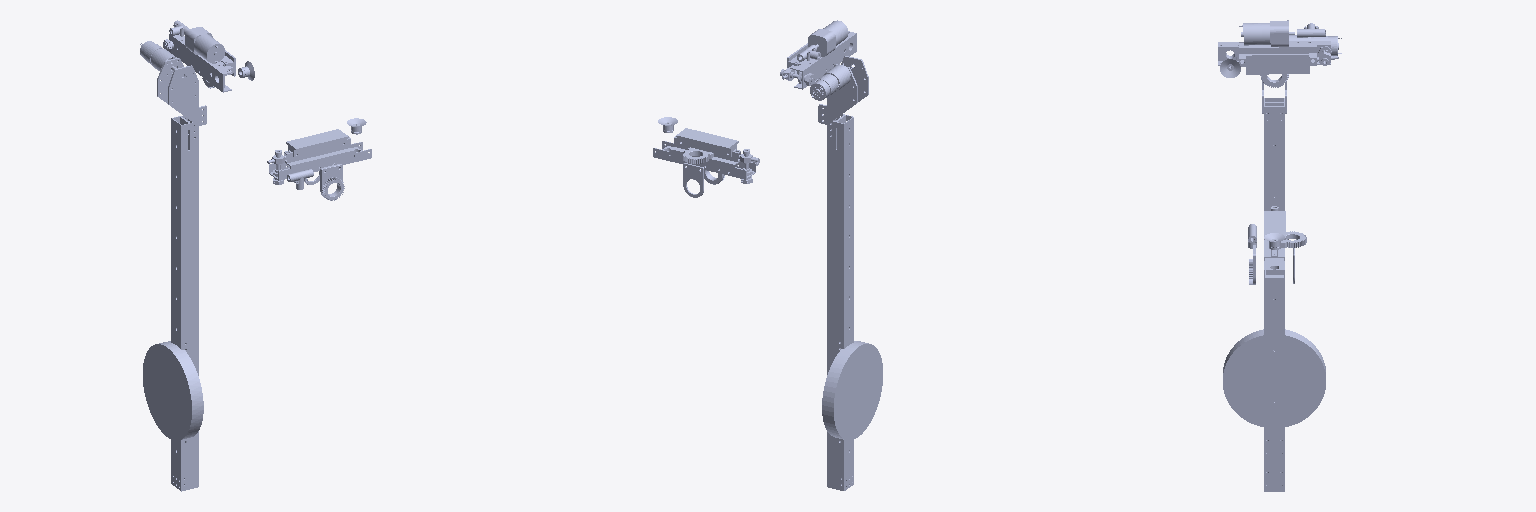
URDF robot description (r2_v5_02_09-2):
<?xml version="1.0" ?>
<!-- =================================================================================== -->
<!-- |    This document was autogenerated by xacro from /home/a/ws_nhk/src/r2_v5_02_09-2_description-20260222T093750Z-1-001/r2_v5_02_09-2_description/urdf/r2_v5_02_09-2.xacro | -->
<!-- |    EDITING THIS FILE BY HAND IS NOT RECOMMENDED                                 | -->
<!-- =================================================================================== -->
<robot name="r2_v5_02_09-2">
  <material name="silver_default">
    <color rgba="0.700 0.700 0.700 1.000"/>
  </material>
  <material name="opaque202209238">
    <color rgba="0.792156862745098 0.8196078431372549 0.9333333333333333 1.0"/>
  </material>
  <transmission name="Revolute 1_1_tran">
    <type>transmission_interface/SimpleTransmission</type>
    <joint name="Revolute 1_1">
      <hardwareInterface>hardware_interface/EffortJointInterface</hardwareInterface>
    </joint>
    <actuator name="Revolute 1_1_actr">
      <hardwareInterface>hardware_interface/EffortJointInterface</hardwareInterface>
      <mechanicalReduction>1</mechanicalReduction>
    </actuator>
  </transmission>
  <transmission name="Slider 1_2_tran">
    <type>transmission_interface/SimpleTransmission</type>
    <joint name="Slider 1_2">
      <hardwareInterface>hardware_interface/EffortJointInterface</hardwareInterface>
    </joint>
    <actuator name="Slider 1_2_actr">
      <hardwareInterface>hardware_interface/EffortJointInterface</hardwareInterface>
      <mechanicalReduction>1</mechanicalReduction>
    </actuator>
  </transmission>
  <transmission name="Slider 1_3_tran">
    <type>transmission_interface/SimpleTransmission</type>
    <joint name="Slider 1_3">
      <hardwareInterface>hardware_interface/EffortJointInterface</hardwareInterface>
    </joint>
    <actuator name="Slider 1_3_actr">
      <hardwareInterface>hardware_interface/EffortJointInterface</hardwareInterface>
      <mechanicalReduction>1</mechanicalReduction>
    </actuator>
  </transmission>
  <transmission name="Revolute 1_4_tran">
    <type>transmission_interface/SimpleTransmission</type>
    <joint name="Revolute 1_4">
      <hardwareInterface>hardware_interface/EffortJointInterface</hardwareInterface>
    </joint>
    <actuator name="Revolute 1_4_actr">
      <hardwareInterface>hardware_interface/EffortJointInterface</hardwareInterface>
      <mechanicalReduction>1</mechanicalReduction>
    </actuator>
  </transmission>
  <transmission name="Revolute 2_1_tran">
    <type>transmission_interface/SimpleTransmission</type>
    <joint name="Revolute 2_1">
      <hardwareInterface>hardware_interface/EffortJointInterface</hardwareInterface>
    </joint>
    <actuator name="Revolute 2_1_actr">
      <hardwareInterface>hardware_interface/EffortJointInterface</hardwareInterface>
      <mechanicalReduction>1</mechanicalReduction>
    </actuator>
  </transmission>
  <transmission name="Revolute 2_2_tran">
    <type>transmission_interface/SimpleTransmission</type>
    <joint name="Revolute 2_2">
      <hardwareInterface>hardware_interface/EffortJointInterface</hardwareInterface>
    </joint>
    <actuator name="Revolute 2_2_actr">
      <hardwareInterface>hardware_interface/EffortJointInterface</hardwareInterface>
      <mechanicalReduction>1</mechanicalReduction>
    </actuator>
  </transmission>
  <link name="base_link">
    <inertial>
      <origin rpy="0 0 0" xyz="0.17821515739923513 -0.27777944232931817 0.20571510362801312"/>
      <mass value="8.508914574032989"/>
      <inertia ixx="0.372432" ixy="0.003049" ixz="0.107536" iyy="0.415526" iyz="0.000109" izz="0.437676"/>
    </inertial>
    <visual>
      <origin rpy="0 0 0" xyz="0 0 0"/>
      <geometry>
        <mesh filename="package://r2_v5_02_09-2_description/meshes/base_link.stl" scale="0.001 0.001 0.001"/>
      </geometry>
      <material name="opaque202209238"/>
    </visual>
    <collision>
      <origin rpy="0 0 0" xyz="0 0 0"/>
      <geometry>
        <mesh filename="package://r2_v5_02_09-2_description/meshes/base_link.stl" scale="0.001 0.001 0.001"/>
      </geometry>
    </collision>
  </link>
  <link name="link1_1_1">
    <inertial>
      <origin rpy="0 0 0" xyz="0.012185962753439583 2.8448442834783094e-07 0.02422822897058774"/>
      <mass value="3.17523535317546"/>
      <inertia ixx="0.032119" ixy="0.0" ixz="-0.000796" iyy="0.028647" iyz="-0.0" izz="0.003843"/>
    </inertial>
    <visual>
      <origin rpy="0 0 0" xyz="-0.117152 0.276004 -0.310526"/>
      <geometry>
        <mesh filename="package://r2_v5_02_09-2_description/meshes/link1_1_1.stl" scale="0.001 0.001 0.001"/>
      </geometry>
      <material name="opaque202209238"/>
    </visual>
    <collision>
      <origin rpy="0 0 0" xyz="-0.117152 0.276004 -0.310526"/>
      <geometry>
        <mesh filename="package://r2_v5_02_09-2_description/meshes/link1_1_1.stl" scale="0.001 0.001 0.001"/>
      </geometry>
    </collision>
  </link>
  <link name="link1_2_1">
    <inertial>
      <origin rpy="0 0 0" xyz="-0.0014692854861454996 0.032239273321738426 0.4836087116067349"/>
      <mass value="1.1683319767136675"/>
      <inertia ixx="0.058995" ixy="0.000222" ixz="0.002025" iyy="0.058205" iyz="-0.003994" izz="0.001171"/>
    </inertial>
    <visual>
      <origin rpy="0 0 0" xyz="-0.147652 0.291004 -0.150527"/>
      <geometry>
        <mesh filename="package://r2_v5_02_09-2_description/meshes/link1_2_1.stl" scale="0.001 0.001 0.001"/>
      </geometry>
      <material name="opaque202209238"/>
    </visual>
    <collision>
      <origin rpy="0 0 0" xyz="-0.147652 0.291004 -0.150527"/>
      <geometry>
        <mesh filename="package://r2_v5_02_09-2_description/meshes/link1_2_1.stl" scale="0.001 0.001 0.001"/>
      </geometry>
    </collision>
  </link>
  <link name="link1_3_1">
    <inertial>
      <origin rpy="0 0 0" xyz="-0.093297394743421 -0.01056676649917393 -0.015654535110686263"/>
      <mass value="0.9194061117462774"/>
      <inertia ixx="0.000436" ixy="0.000767" ixz="-0.000939" iyy="0.017898" iyz="3.7e-05" izz="0.017824"/>
    </inertial>
    <visual>
      <origin rpy="0 0 0" xyz="-0.115152 0.261004 -0.81616"/>
      <geometry>
        <mesh filename="package://r2_v5_02_09-2_description/meshes/link1_3_1.stl" scale="0.001 0.001 0.001"/>
      </geometry>
      <material name="opaque202209238"/>
    </visual>
    <collision>
      <origin rpy="0 0 0" xyz="-0.115152 0.261004 -0.81616"/>
      <geometry>
        <mesh filename="package://r2_v5_02_09-2_description/meshes/link1_3_1.stl" scale="0.001 0.001 0.001"/>
      </geometry>
    </collision>
  </link>
  <link name="link1_4_1">
    <inertial>
      <origin rpy="0 0 0" xyz="-0.011042365294081091 0.0004824807719794322 0.03841014318738489"/>
      <mass value="1.0237825642819671"/>
      <inertia ixx="0.001572" ixy="3e-06" ixz="0.000134" iyy="0.000608" iyz="6.6e-05" izz="0.001408"/>
    </inertial>
    <visual>
      <origin rpy="0 0 0" xyz="-0.194252 0.276004 -0.81416"/>
      <geometry>
        <mesh filename="package://r2_v5_02_09-2_description/meshes/link1_4_1.stl" scale="0.001 0.001 0.001"/>
      </geometry>
      <material name="opaque202209238"/>
    </visual>
    <collision>
      <origin rpy="0 0 0" xyz="-0.194252 0.276004 -0.81416"/>
      <geometry>
        <mesh filename="package://r2_v5_02_09-2_description/meshes/link1_4_1.stl" scale="0.001 0.001 0.001"/>
      </geometry>
    </collision>
  </link>
  <link name="link2_1_1">
    <inertial>
      <origin rpy="0 0 0" xyz="-0.02480616064820229 -0.08248983270773932 -0.001163456975307564"/>
      <mass value="2.2117481534402277"/>
      <inertia ixx="0.08816" ixy="0.000113" ixz="-0.001564" iyy="0.087095" iyz="0.000591" izz="0.002325"/>
    </inertial>
    <visual>
      <origin rpy="0 0 0" xyz="-0.393652 0.207504 -0.257026"/>
      <geometry>
        <mesh filename="package://r2_v5_02_09-2_description/meshes/link2_1_1.stl" scale="0.001 0.001 0.001"/>
      </geometry>
      <material name="opaque202209238"/>
    </visual>
    <collision>
      <origin rpy="0 0 0" xyz="-0.393652 0.207504 -0.257026"/>
      <geometry>
        <mesh filename="package://r2_v5_02_09-2_description/meshes/link2_1_1.stl" scale="0.001 0.001 0.001"/>
      </geometry>
    </collision>
  </link>
  <link name="link2_2_1">
    <inertial>
      <origin rpy="0 0 0" xyz="-0.009728627621670538 0.023873907836073738 0.04211104873465721"/>
      <mass value="0.68930155567869"/>
      <inertia ixx="0.000492" ixy="-5.3e-05" ixz="-3e-05" iyy="0.001262" iyz="-8.2e-05" izz="0.001167"/>
    </inertial>
    <visual>
      <origin rpy="0 0 0" xyz="-0.382595 0.301557 -0.595601"/>
      <geometry>
        <mesh filename="package://r2_v5_02_09-2_description/meshes/link2_2_1.stl" scale="0.001 0.001 0.001"/>
      </geometry>
      <material name="opaque202209238"/>
    </visual>
    <collision>
      <origin rpy="0 0 0" xyz="-0.382595 0.301557 -0.595601"/>
      <geometry>
        <mesh filename="package://r2_v5_02_09-2_description/meshes/link2_2_1.stl" scale="0.001 0.001 0.001"/>
      </geometry>
    </collision>
  </link>
  <joint name="Revolute 1_1" type="continuous">
    <origin rpy="0 0 0" xyz="0.117152 -0.276004 0.310526"/>
    <parent link="base_link"/>
    <child link="link1_1_1"/>
    <axis xyz="1.0 0.0 0.0"/>
  </joint>
  <joint name="Slider 1_2" type="prismatic">
    <origin rpy="0 0 0" xyz="0.0305 -0.015 -0.159999"/>
    <parent link="link1_1_1"/>
    <child link="link1_2_1"/>
    <axis xyz="0.0 0.0 1.0"/>
    <limit effort="100" lower="0.0" upper="0.6" velocity="100"/>
  </joint>
  <joint name="Slider 1_3" type="prismatic">
    <origin rpy="0 0 0" xyz="-0.0325 0.03 0.665633"/>
    <parent link="link1_2_1"/>
    <child link="link1_3_1"/>
    <axis xyz="1.0 0.0 -0.0"/>
    <limit effort="100" lower="0.0" upper="0.26" velocity="100"/>
  </joint>
  <joint name="Revolute 1_4" type="revolute">
    <origin rpy="0 0 0" xyz="0.0791 -0.015 -0.002"/>
    <parent link="link1_3_1"/>
    <child link="link1_4_1"/>
    <axis xyz="-1.0 -0.0 0.0"/>
    <limit effort="100" lower="-3.141593" upper="3.141593" velocity="100"/>
  </joint>
  <joint name="Revolute 2_1" type="continuous">
    <origin rpy="0 0 0" xyz="0.393652 -0.207504 0.257026"/>
    <parent link="base_link"/>
    <child link="link2_1_1"/>
    <axis xyz="-0.0 1.0 -0.0"/>
  </joint>
  <joint name="Revolute 2_2" type="revolute">
    <origin rpy="0 0 0" xyz="-0.011057 -0.094053 0.338575"/>
    <parent link="link2_1_1"/>
    <child link="link2_2_1"/>
    <axis xyz="-0.0 -1.0 0.0"/>
    <limit effort="100" lower="-3.141593" upper="3.141593" velocity="100"/>
  </joint>
</robot>

--- Facts derived from the render (not from the file) ---
The picture shows the robot from 3 angles, left to right: view 1: azimuth 30°, elevation 25°; view 2: azimuth 150°, elevation 25°; view 3: azimuth 270°, elevation 25°; orthographic projection.
Model r2_v5_02_09-2 with 7 links and 6 joints (2 revolute, 2 continuous, 2 prismatic), rooted at base_link, posed all joints at 0.
Visible links, largest first — view 1: link1_1_1, link1_2_1, link2_2_1, link1_4_1; view 2: link1_1_1, link1_2_1, link2_2_1, link1_4_1; view 3: link1_2_1, link1_1_1, link1_4_1, link2_2_1.
Link boxes in pixels (left/top/right/bottom): link1_1_1: left=143, top=116, right=203, bottom=491; link1_2_1: left=140, top=41, right=206, bottom=488; link2_2_1: left=267, top=118, right=371, bottom=200; link1_4_1: left=163, top=20, right=254, bottom=92; link1_1_1: left=822, top=115, right=882, bottom=490; link1_2_1: left=810, top=56, right=868, bottom=488; link2_2_1: left=653, top=117, right=759, bottom=197; link1_4_1: left=780, top=20, right=856, bottom=89; link1_2_1: left=1262, top=35, right=1341, bottom=491; link1_1_1: left=1223, top=98, right=1325, bottom=426; link1_4_1: left=1218, top=20, right=1338, bottom=87; link2_2_1: left=1248, top=206, right=1306, bottom=284.
Bounding box of the posed robot: 0.3499 × 0.1767 × 0.7363 m (x, y, z).
Meshes: 7 distinct files referenced, 4 mesh visuals loaded (4 binary STL); not drawn: 3 (reference not matched to a file when rendering).
